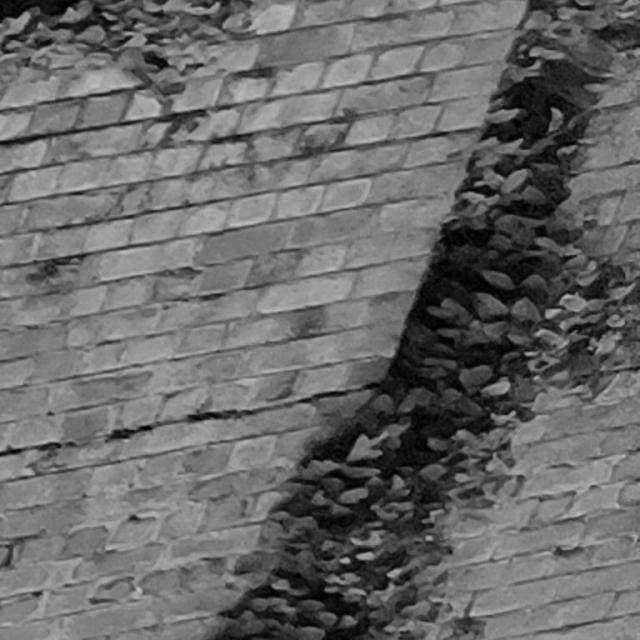crack: (1, 381, 385, 458)
